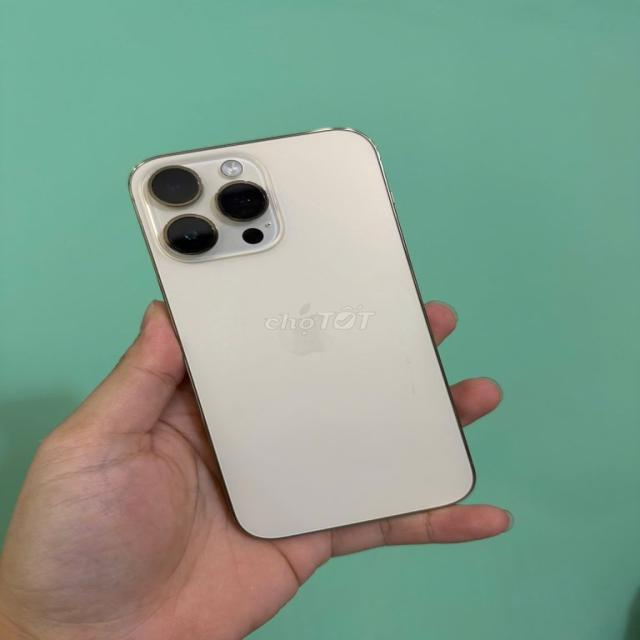gen_14: (114, 125, 478, 558)
